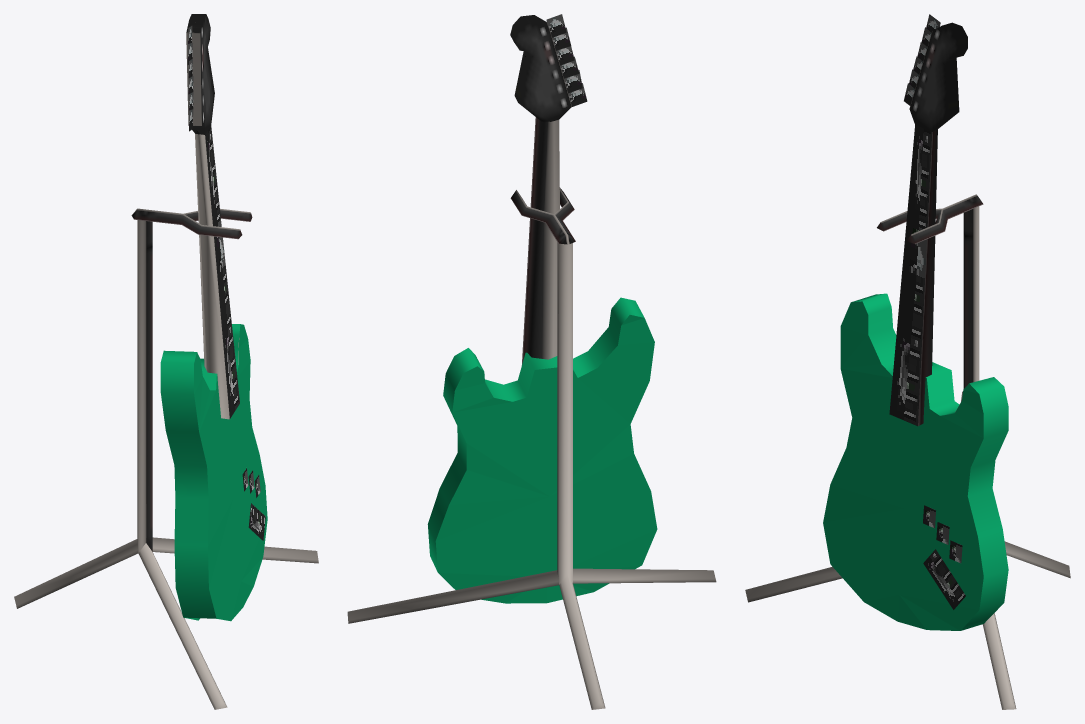
File: rmk_gtr_Egtr01.dae
The picture shows the model from 3 angles, left to right: view 1: azimuth 30°, elevation 25°; view 2: azimuth 150°, elevation 25°; view 3: azimuth 270°, elevation 25°; orthographic projection. The views are drawn at different scales.
Parts seen in each view (by area): view 1: rmk_gtr_Egtr01; view 2: rmk_gtr_Egtr01; view 3: rmk_gtr_Egtr01.
Boxes of the visible parts, x1,y1,x2,y2 form: rmk_gtr_Egtr01: [14, 14, 318, 709]; rmk_gtr_Egtr01: [347, 14, 716, 709]; rmk_gtr_Egtr01: [745, 14, 1070, 709].
Size of the model in its own units: 22.7 by 47.4 by 22.8.
Materials: 3 (3 with a texture image).
